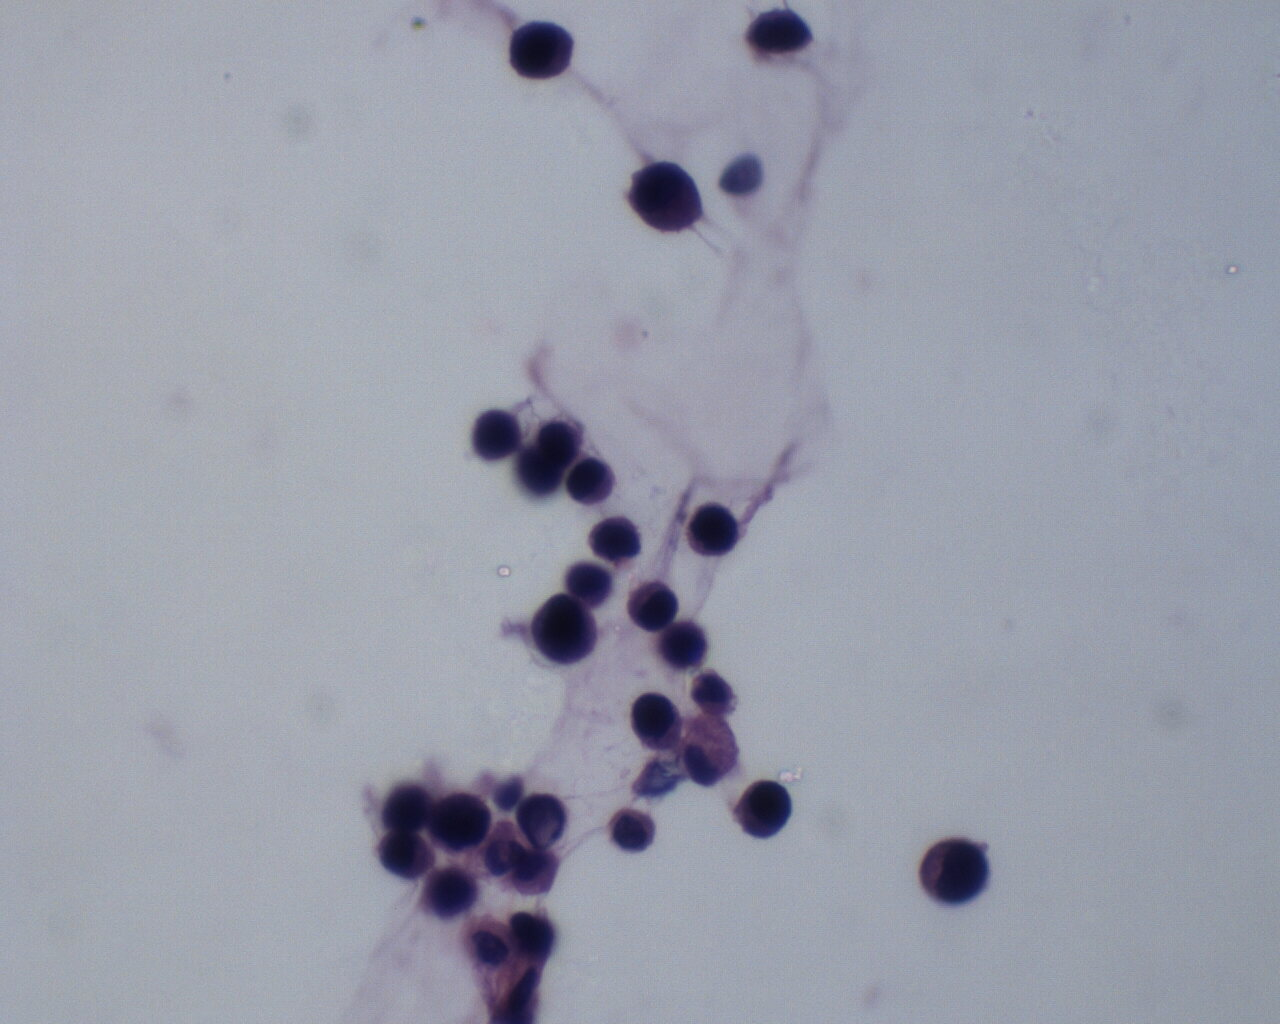ab: (629, 156, 707, 240), (531, 590, 603, 666), (920, 832, 990, 907), (507, 19, 579, 84), (425, 792, 494, 854), (734, 776, 797, 842), (418, 864, 482, 923), (628, 692, 685, 750), (685, 502, 741, 562), (470, 403, 523, 466), (605, 804, 662, 861), (587, 512, 643, 568), (627, 580, 682, 636), (565, 455, 618, 512)
